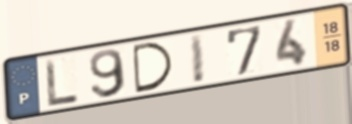4: (274, 16, 310, 69)
7: (224, 23, 264, 78)
9: (87, 47, 128, 100)
D: (129, 39, 177, 95)
I: (187, 31, 207, 87)
L: (42, 56, 81, 109)
